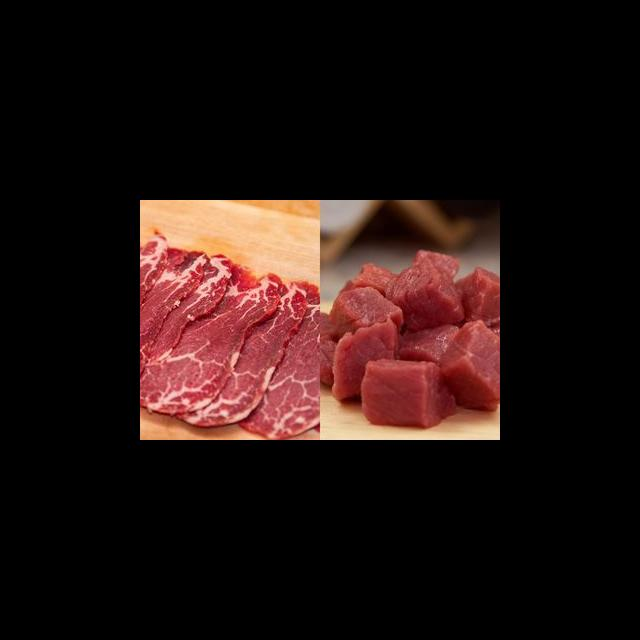beef: (167, 256, 295, 429), (140, 248, 218, 410), (330, 253, 418, 345), (426, 300, 500, 407), (352, 350, 456, 420), (390, 245, 467, 318), (144, 228, 172, 306)
